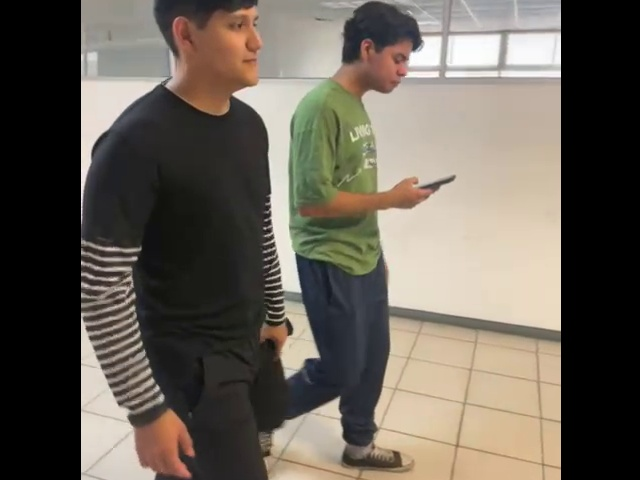mixto2: (409, 167, 457, 196)
